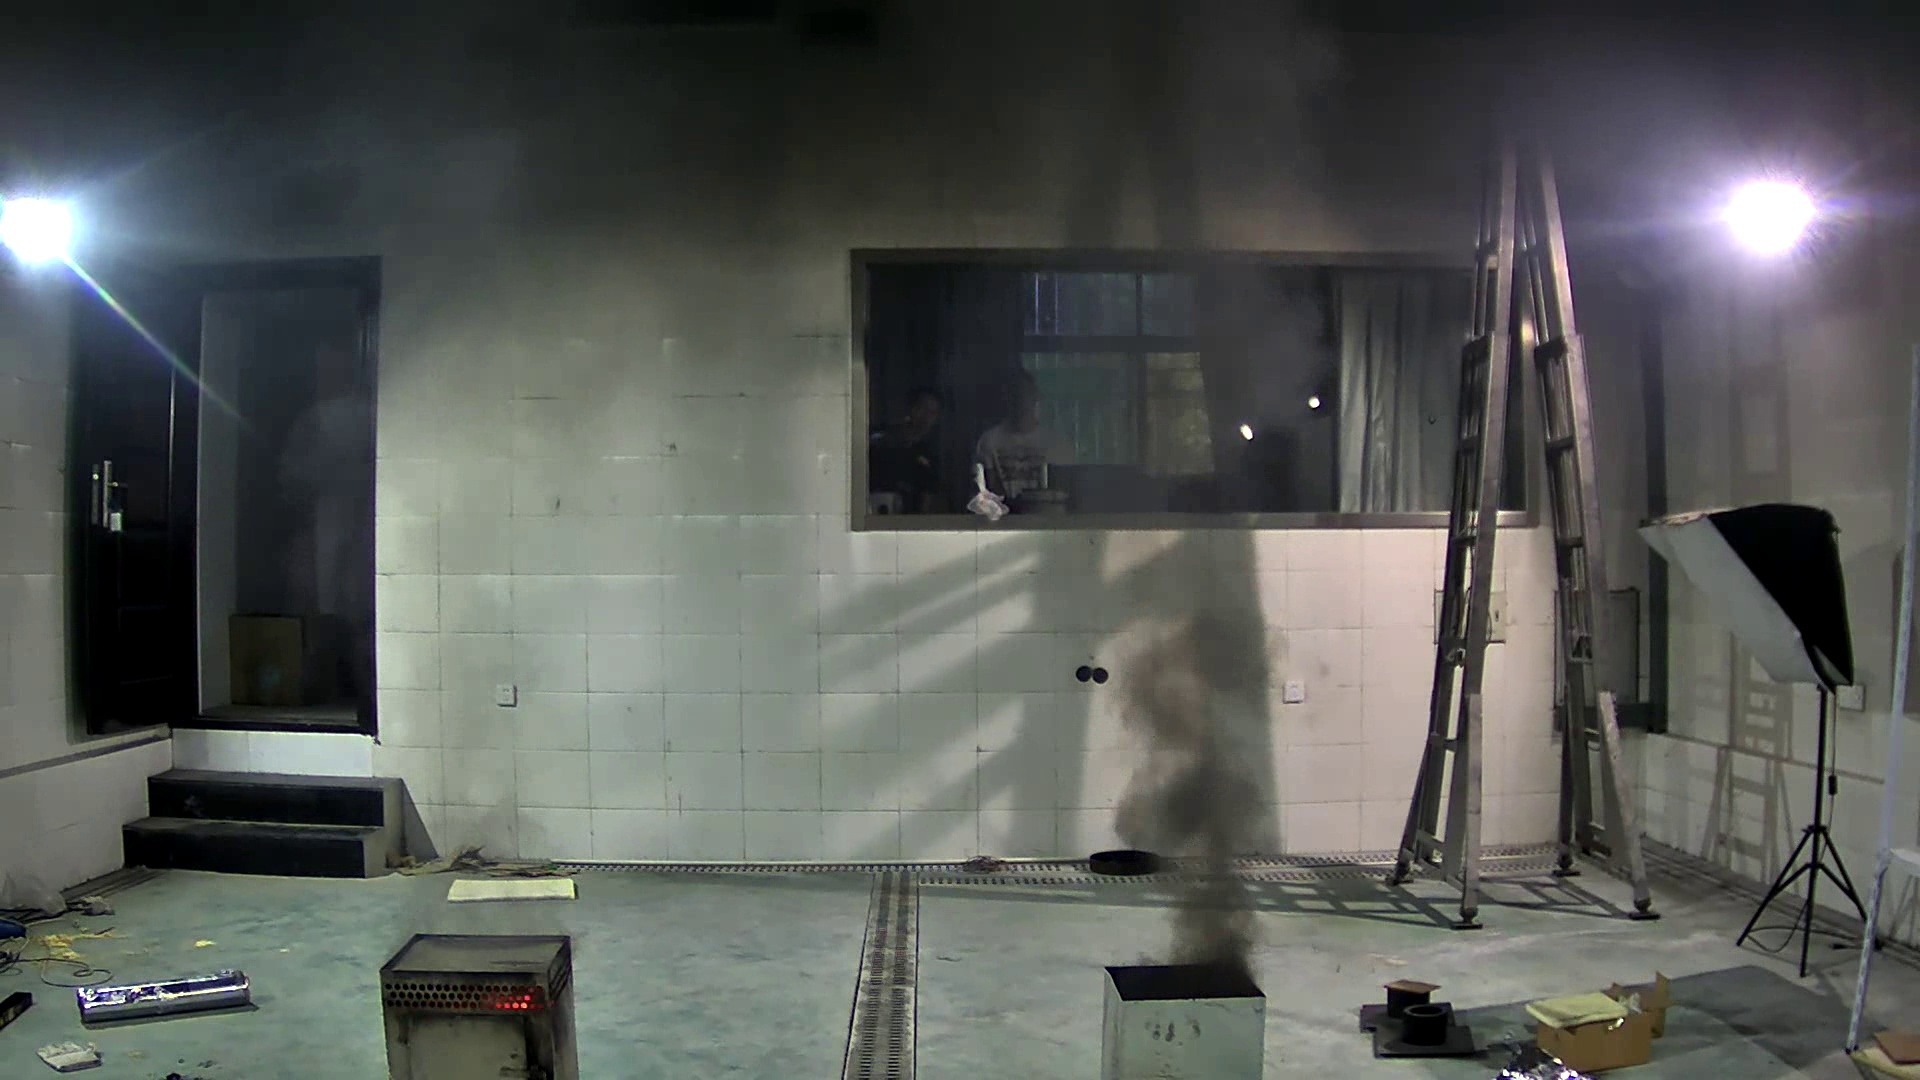smoke: (1092, 574, 1317, 968)
